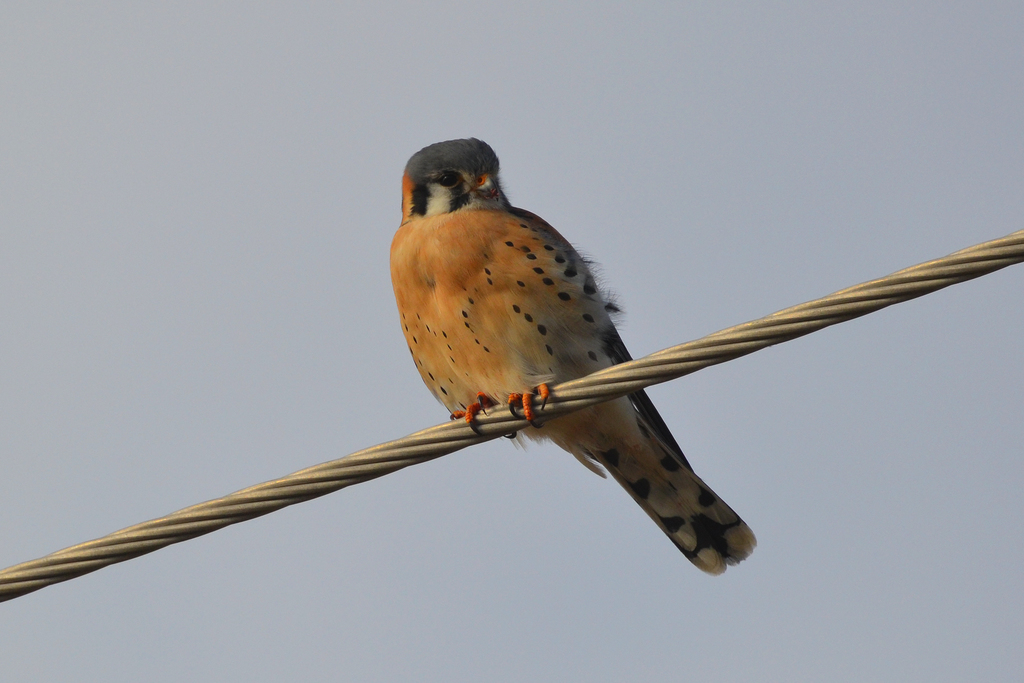Bird: (388, 136, 757, 577)
